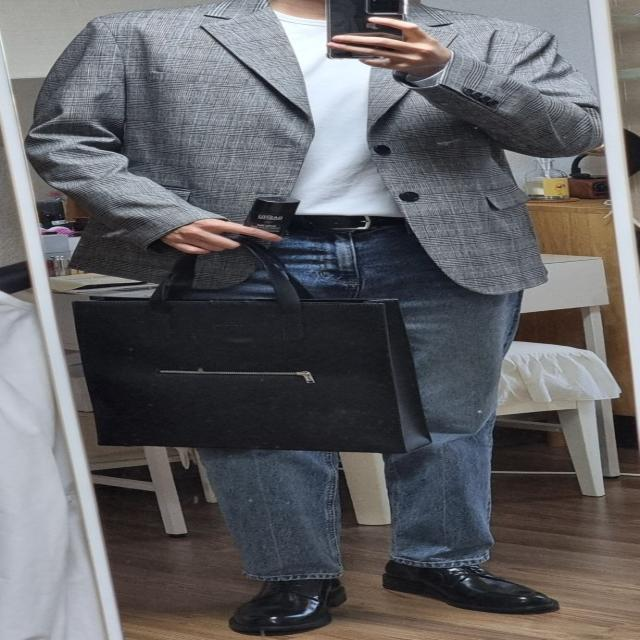blazer: (25, 2, 600, 296)
denimpants: (140, 206, 523, 583)
